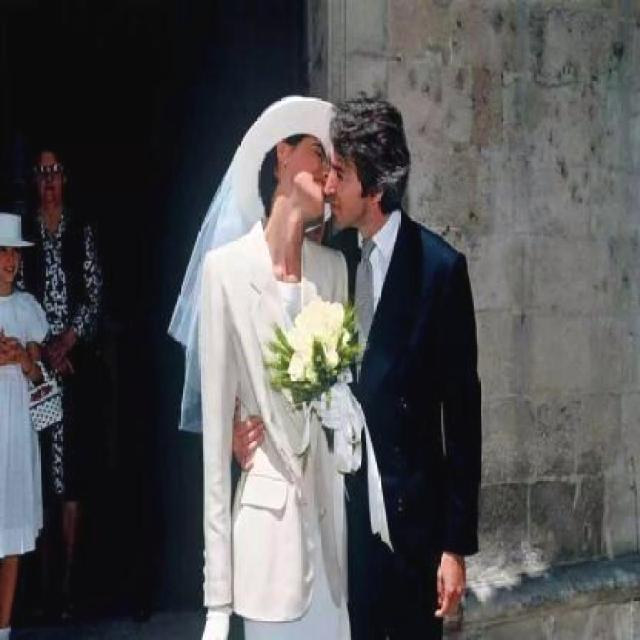face_nomask: (270, 140, 336, 232), (326, 154, 363, 231), (33, 162, 65, 204), (0, 246, 20, 282)
glasses: (32, 162, 65, 184)
hand_glove: (314, 380, 352, 434), (195, 598, 240, 638)
hand_noglove: (229, 398, 268, 472), (431, 549, 469, 620), (46, 335, 76, 374), (0, 329, 18, 366)
head_nohelmet: (316, 97, 432, 161), (26, 143, 71, 172)
person: (304, 72, 522, 640), (169, 86, 369, 640)
